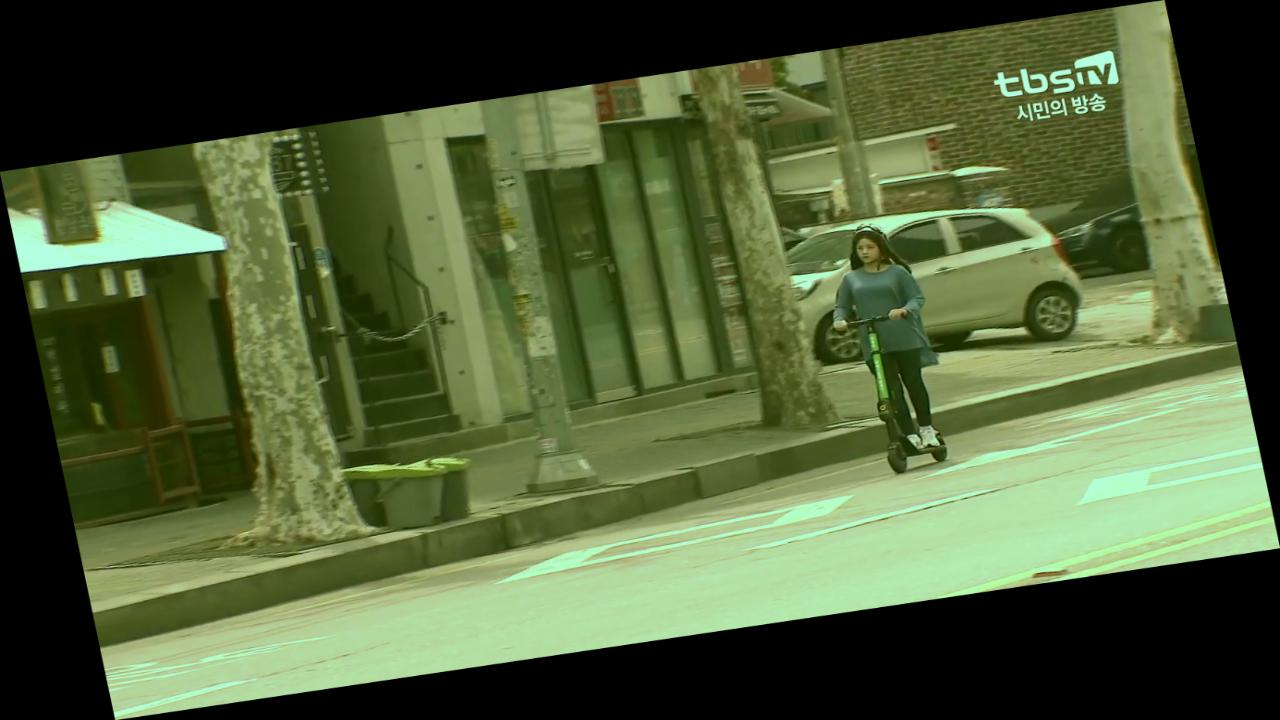helmet: (811, 216, 965, 479)
